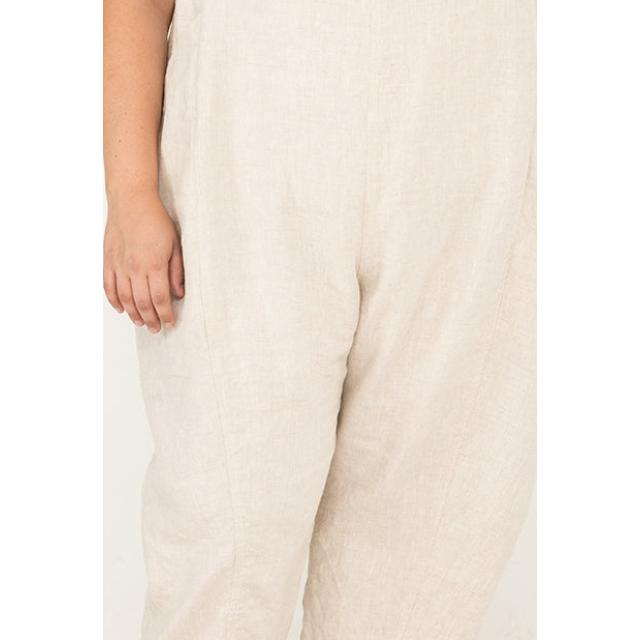linen: (174, 0, 538, 640)
